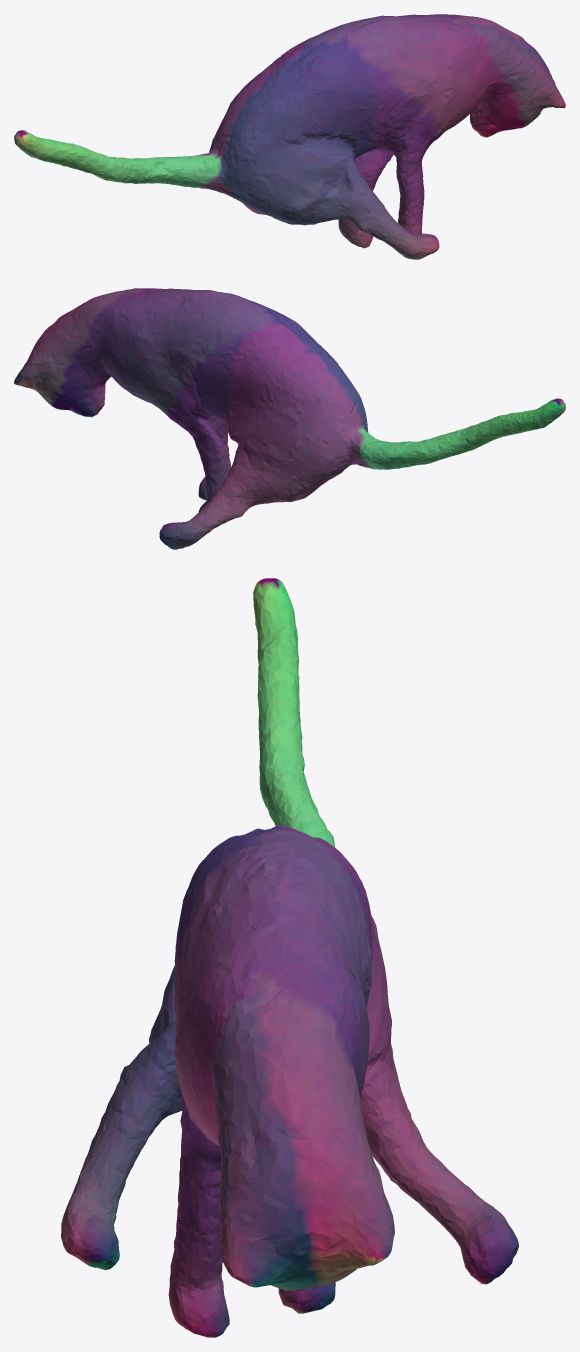
Rendered from cat-4.off.obj.
The picture shows the model from 3 angles, top to bottom: view 1: azimuth 30°, elevation 25°; view 2: azimuth 150°, elevation 25°; view 3: azimuth 270°, elevation 25°; orthographic projection. The views are drawn at different scales.
Bounding box in the file's own units: 1.43 × 0.5797 × 0.5388.
